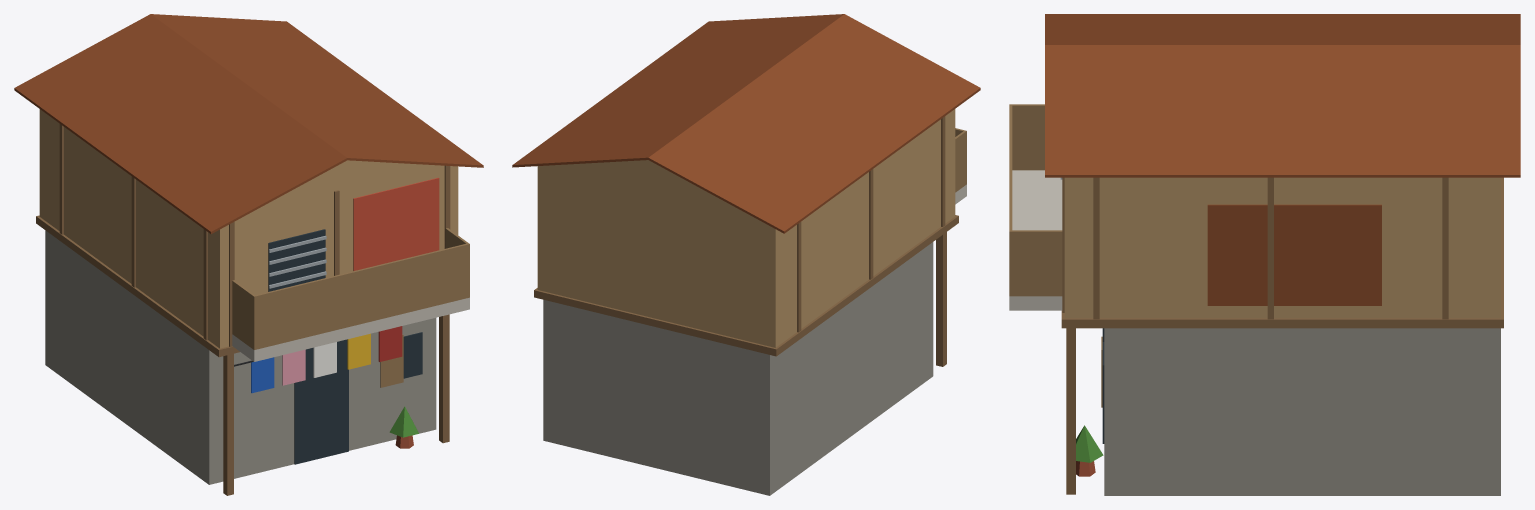
File: BAY_I_Shanty2F_H.glb
The picture shows the model from 3 angles, left to right: view 1: azimuth 30°, elevation 25°; view 2: azimuth 150°, elevation 25°; view 3: azimuth 270°, elevation 25°; orthographic projection. The views are drawn at different scales.
Visible parts, largest first — view 1: BAY_I_Shanty2F_H; view 2: BAY_I_Shanty2F_H; view 3: BAY_I_Shanty2F_H.
Part boxes in pixels (x1,y1,x2,y2): BAY_I_Shanty2F_H: (14,14,483,495); BAY_I_Shanty2F_H: (512,14,980,495); BAY_I_Shanty2F_H: (1009,14,1520,495).
Size of the model in its own units: 4.8 by 5.34 by 6.45.
Materials: 1 (1 with a texture image).
